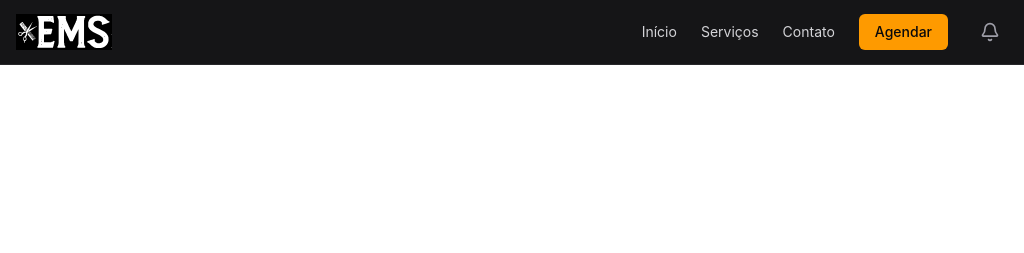
Scenario: PublicHeader › when logged in shows Pendente and Cancelado labels for agendamentos
Click the button named "Notificações" at (990, 32), box [972,14,1008,50]
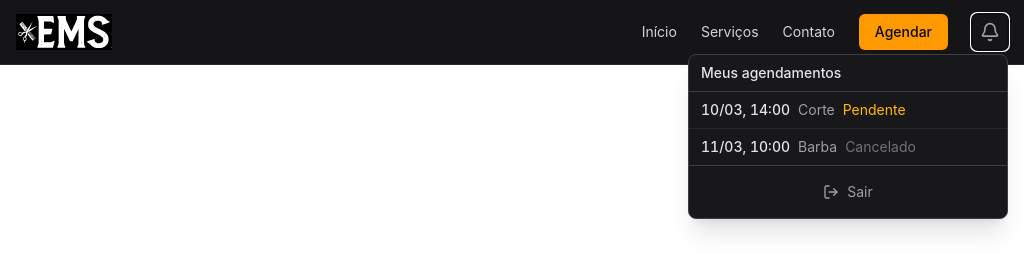
Check: the text "Pendente" is shown, box [843,100,906,120]
Check: the text "Cancelado" is shown, box [845,137,916,157]
